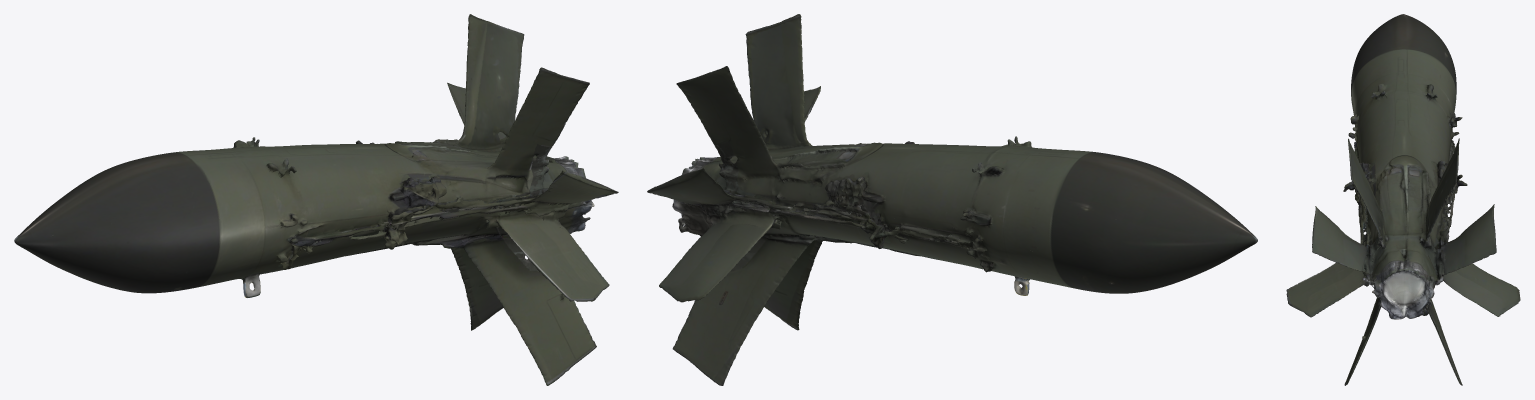
Rendered from rocketprojectile.glb.
3 views of the same model, side by side, from view 1: azimuth 30°, elevation 25°; view 2: azimuth 150°, elevation 25°; view 3: azimuth 270°, elevation 25° (orthographic). The views are drawn at different scales.
Visible parts, largest first — view 1: input; view 2: input; view 3: input.
Boxes of the visible parts, x1,y1,x2,y2 form: input: (14, 14, 618, 385); input: (647, 14, 1257, 385); input: (1286, 14, 1520, 385).
Bounding box in the file's own units: 2 × 1.08 × 0.9302.
Materials: 1 (1 with a texture image).
